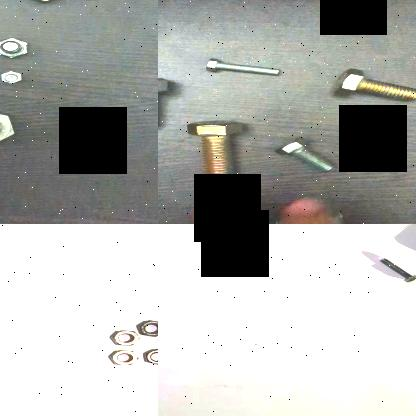Bolts: (322, 60, 416, 118), (182, 110, 246, 188), (268, 126, 336, 183), (196, 56, 288, 82), (57, 108, 118, 144), (373, 255, 416, 287), (0, 31, 33, 61), (0, 109, 17, 149), (0, 70, 28, 86)
NUTS: (107, 350, 140, 368), (108, 330, 141, 348), (133, 320, 158, 338), (141, 347, 158, 367)
